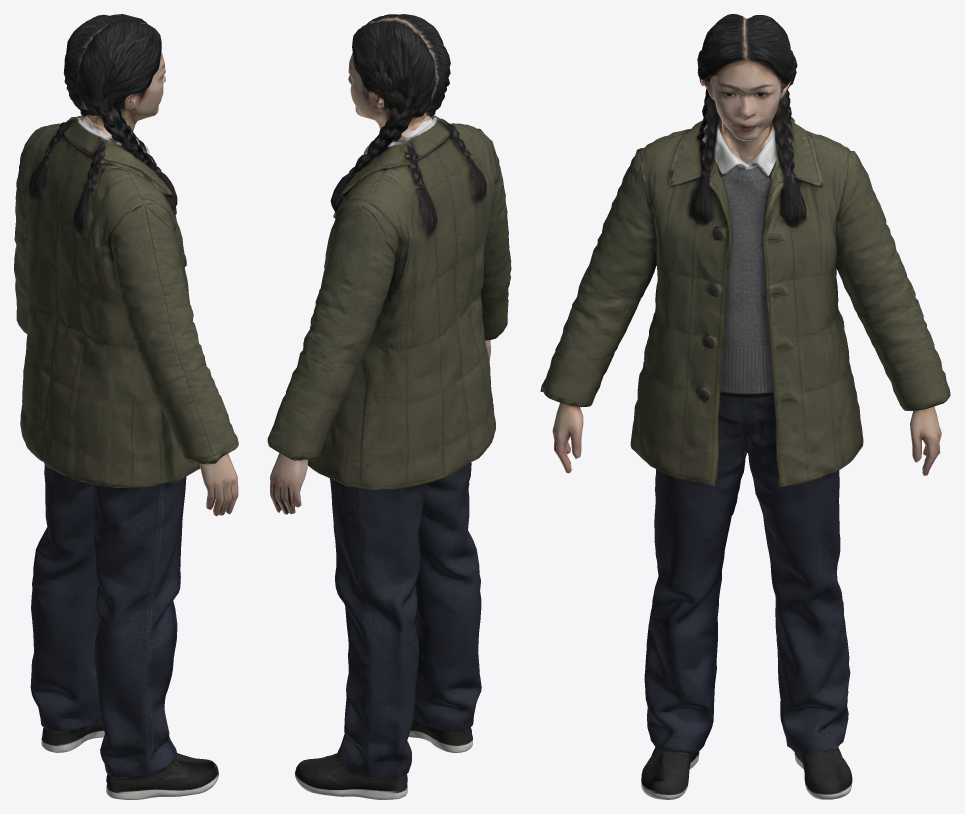
The model's file is char_ye_hero.glb.
3 views of the same model, side by side, from view 1: azimuth 30°, elevation 25°; view 2: azimuth 150°, elevation 25°; view 3: azimuth 270°, elevation 25° (orthographic).
Parts seen in each view (by area): view 1: tripo_node_e0cf7d2a-f6b1-4890-b2da-a2549d477104; view 2: tripo_node_e0cf7d2a-f6b1-4890-b2da-a2549d477104; view 3: tripo_node_e0cf7d2a-f6b1-4890-b2da-a2549d477104.
Part boxes in pixels (box(x1,y1,x2,y2)): tripo_node_e0cf7d2a-f6b1-4890-b2da-a2549d477104: box(14, 14, 238, 799); tripo_node_e0cf7d2a-f6b1-4890-b2da-a2549d477104: box(267, 14, 511, 799); tripo_node_e0cf7d2a-f6b1-4890-b2da-a2549d477104: box(540, 14, 950, 799).
Bounding box in the file's own units: 0.2142 × 1 × 0.4918.
1 material, 1 textured.
